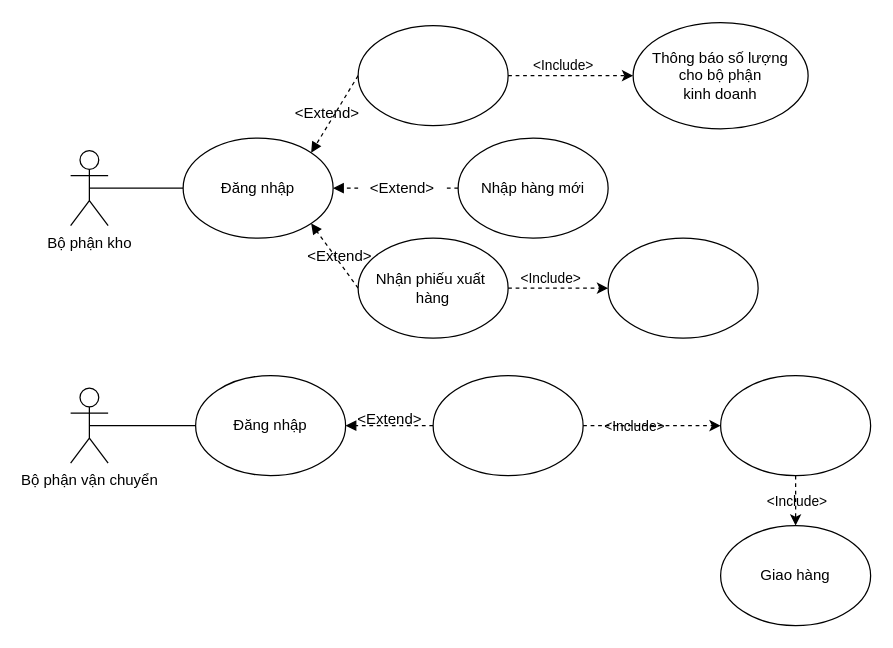
This 893x648 diagram has some shape labels left out. The centre of each missing label's shape, as x and y in pixels:
Kiểm tra hàng trong kho: (x=432, y=75)
Nhận hàng: (x=795, y=425)
Nhận đơn vận chuyển: (x=507, y=425)
Xuất hàng cho bộ phận vận chuyển: (x=682, y=287)
